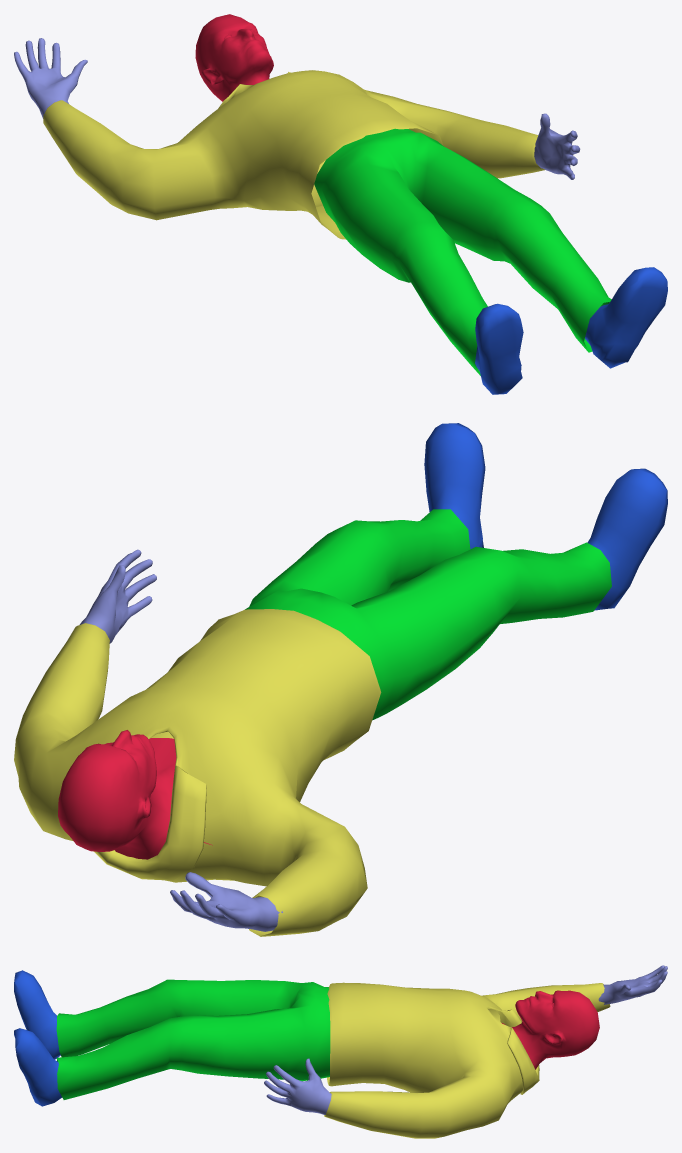
The model's file is superviviente2.fbx.
3 views of the same model, one above another, from view 1: azimuth 30°, elevation 25°; view 2: azimuth 150°, elevation 25°; view 3: azimuth 270°, elevation 25° (orthographic). The views are drawn at different scales.
Visible parts, largest first — view 1: superviviente2; view 2: superviviente2; view 3: superviviente2.
Boxes of the visible parts, x1,y1,x2,y2 form: superviviente2: (14, 14, 667, 394); superviviente2: (14, 423, 667, 936); superviviente2: (14, 965, 667, 1138).
Bounding box in the file's own units: 318 × 119 × 664.
